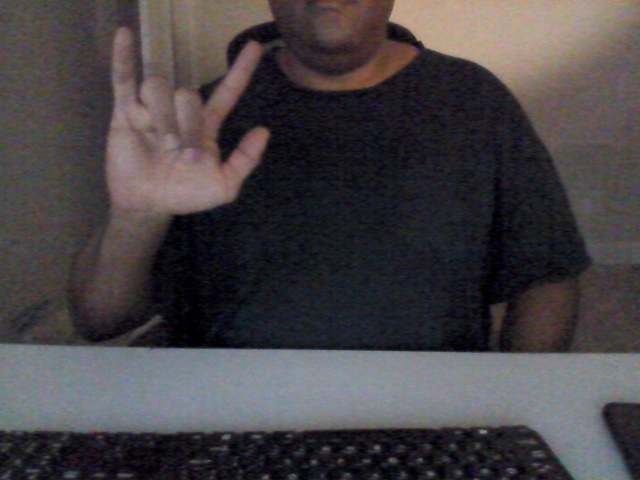i_love_you: (105, 20, 275, 226)
